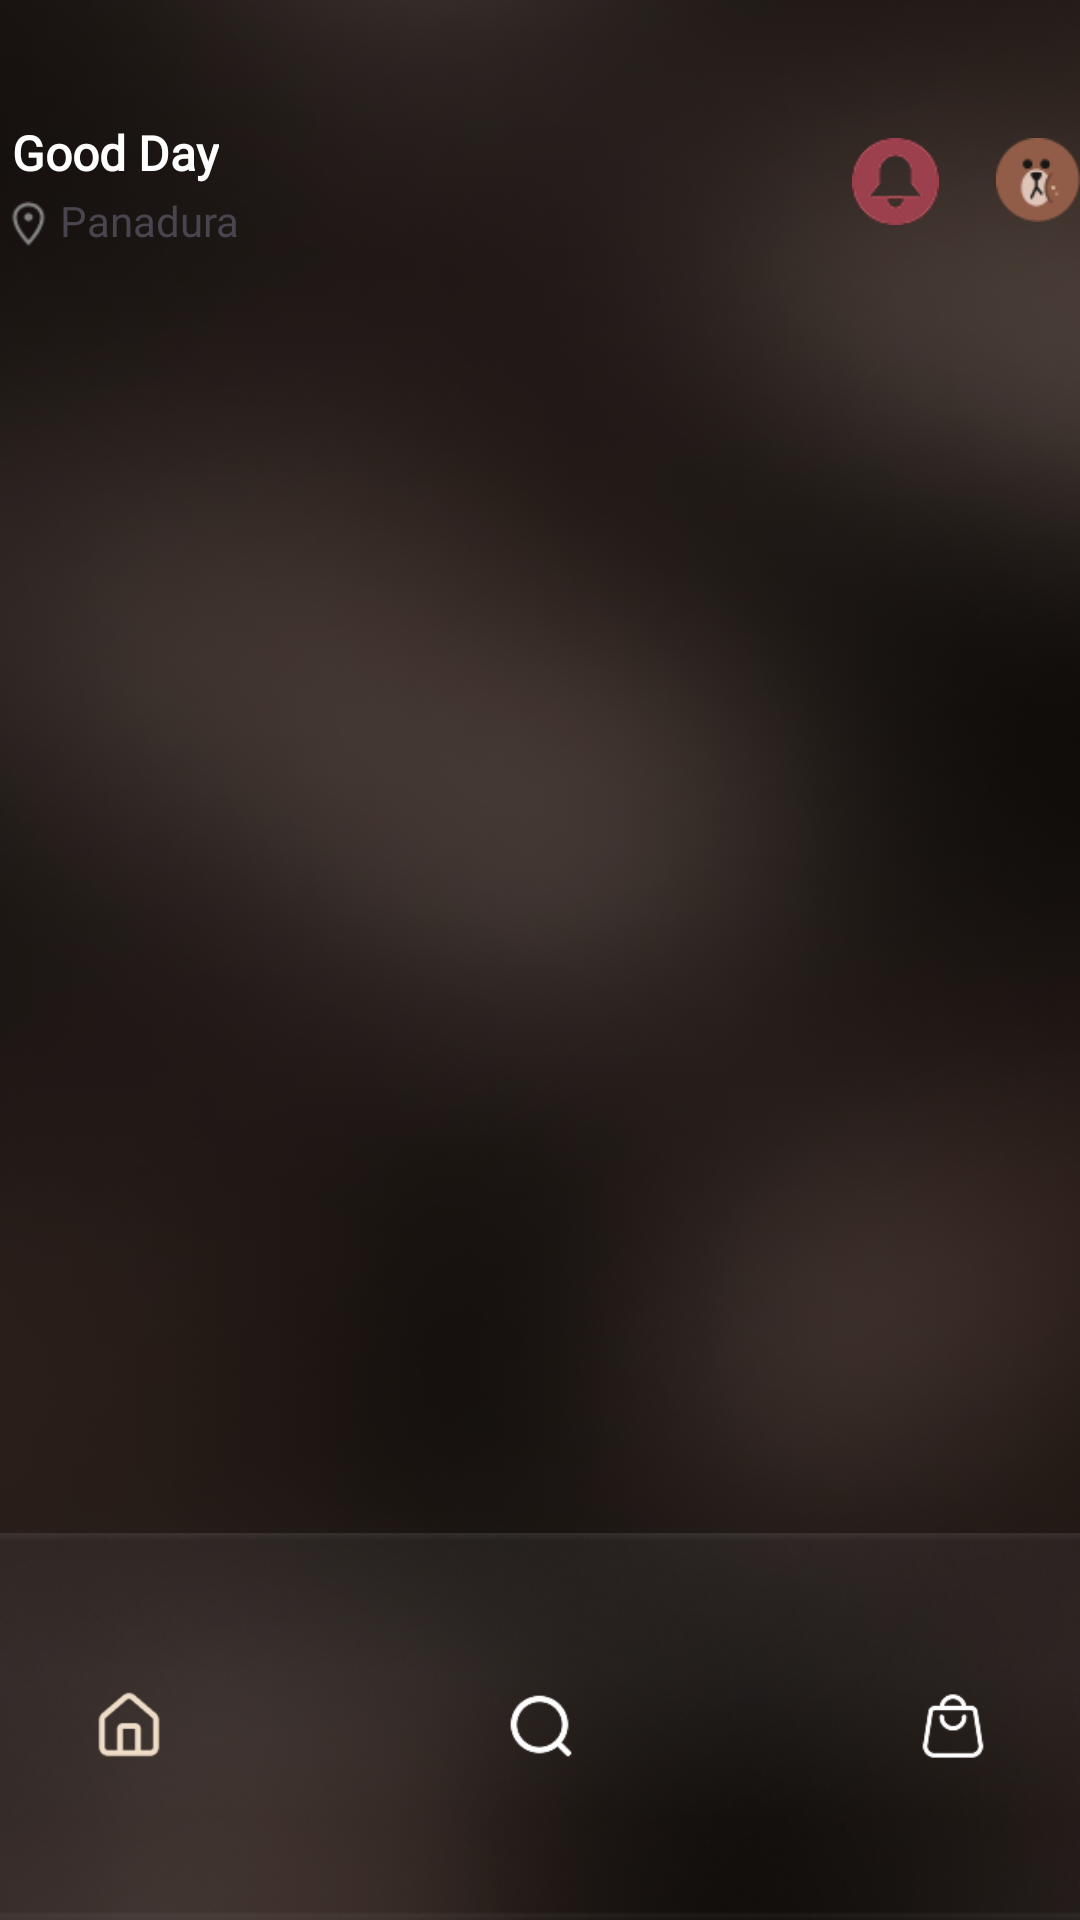

Screen size 1080*1920. Icon name, then its box in pixels as {"left": x1, "top": y1, "right": x2, "bottom": y2}:
bell: {"left": 852, "top": 138, "right": 939, "bottom": 225}
location: {"left": 12, "top": 202, "right": 45, "bottom": 246}
